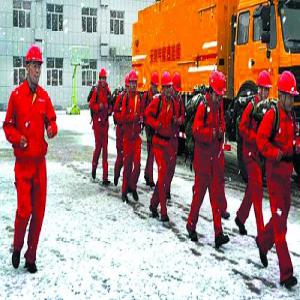red: (25, 45, 45, 91), (279, 71, 297, 113), (209, 70, 223, 105), (257, 72, 272, 104), (161, 72, 173, 100), (172, 72, 183, 100), (128, 69, 140, 94), (150, 70, 161, 94), (99, 68, 107, 87)
